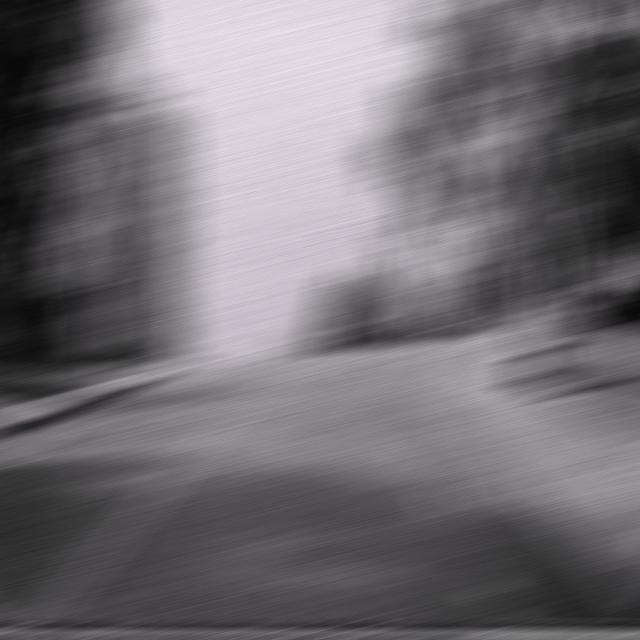stop_sign: (477, 232, 517, 262)
